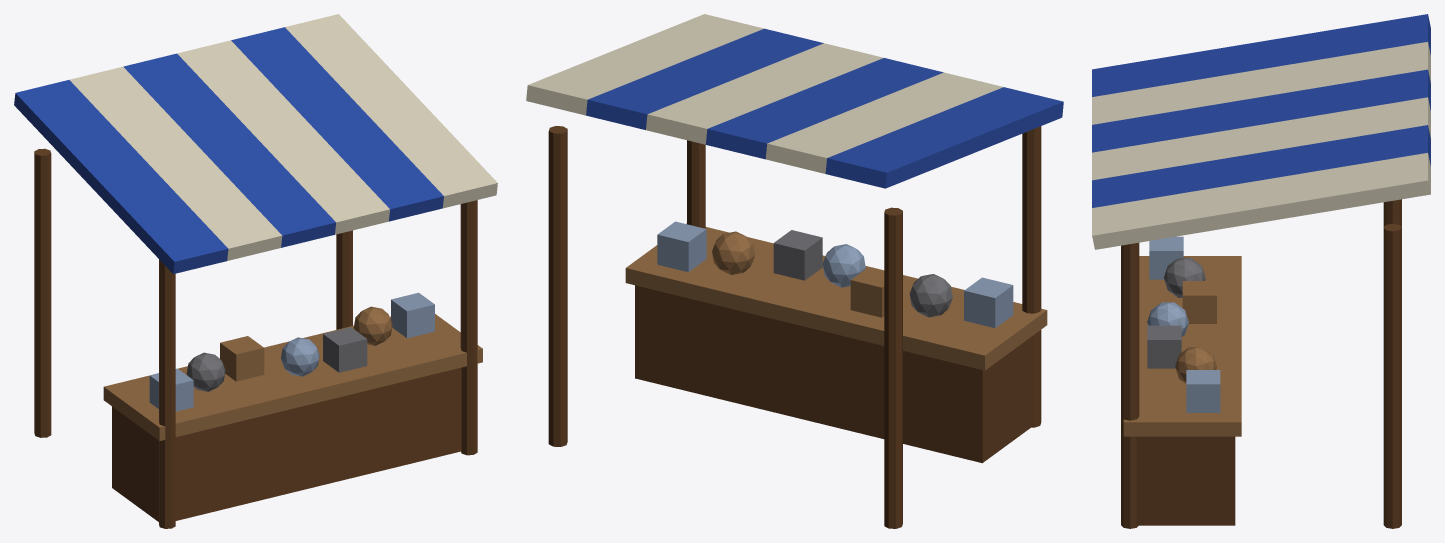
File: SM_GZ_stall_1.fbx
3 renders of one model, left to right at view 1: azimuth 30°, elevation 25°; view 2: azimuth 150°, elevation 25°; view 3: azimuth 270°, elevation 25°, orthographic. The views are drawn at different scales.
Parts seen in each view (by area): view 1: SM_GZ_stall_1; view 2: SM_GZ_stall_1; view 3: SM_GZ_stall_1.
Boxes of the visible parts, x1,y1,x2,y2 form: SM_GZ_stall_1: (14,14,497,528); SM_GZ_stall_1: (526,14,1063,528); SM_GZ_stall_1: (1092,14,1430,528).
Size of the model in its own units: 300 by 294 by 258.
